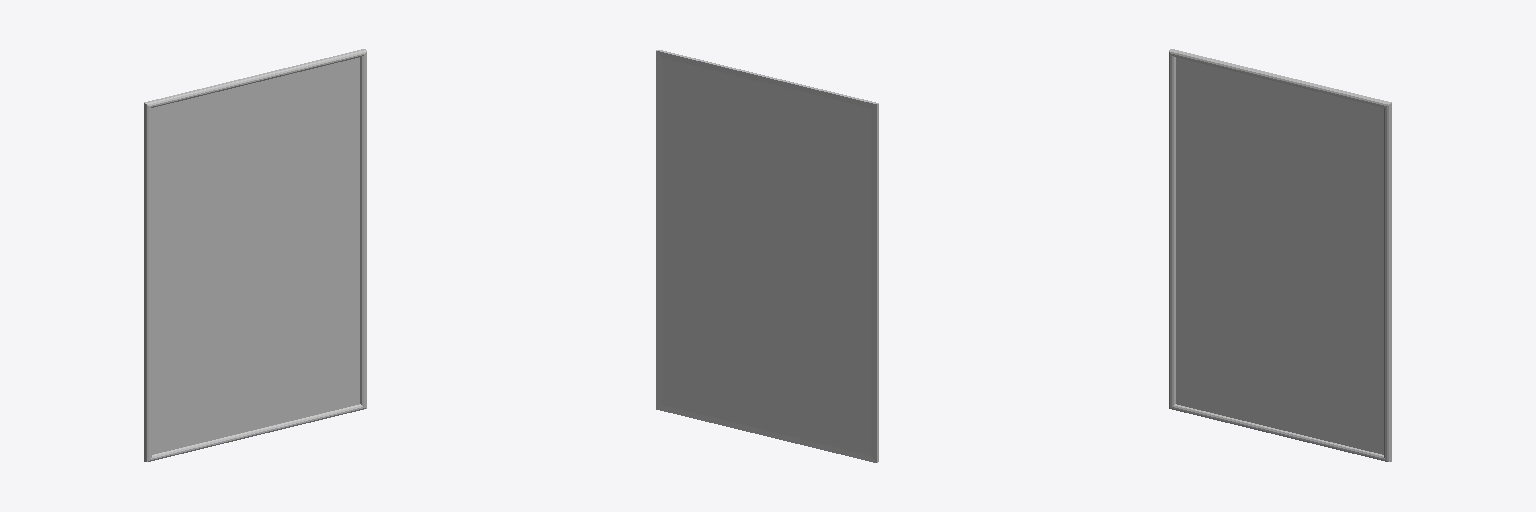
The model's file is PictureFrame4.obj.
3 views of the same model, side by side, from view 1: azimuth 30°, elevation 25°; view 2: azimuth 150°, elevation 25°; view 3: azimuth 330°, elevation 25° (orthographic).
Visible parts, largest first — view 1: Cube_Cube.005; view 2: Cube_Cube.005; view 3: Cube_Cube.005.
Boxes of the visible parts, x1,y1,x2,y2 form: Cube_Cube.005: [144, 49, 366, 461]; Cube_Cube.005: [656, 50, 878, 462]; Cube_Cube.005: [1169, 49, 1391, 461].
Bounding box in the file's own units: 2.12 × 3.29 × 0.0468.